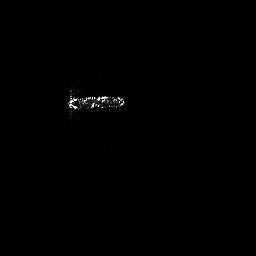ship: (65, 89, 125, 113)
